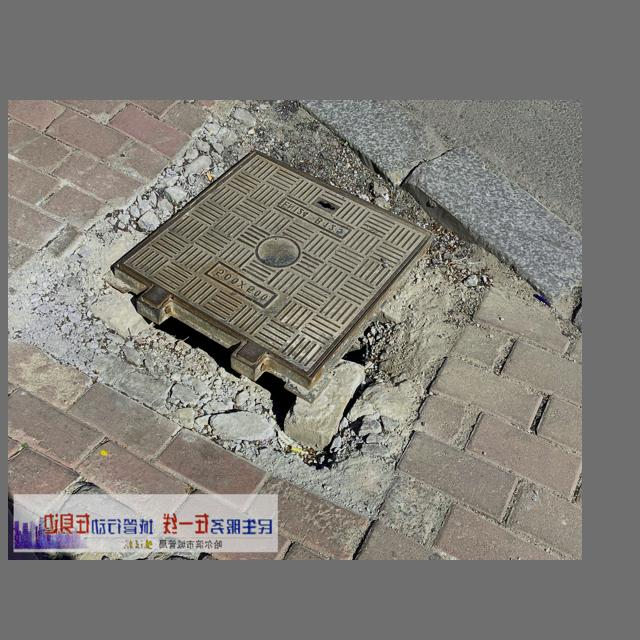circle: (39, 146, 493, 467)
